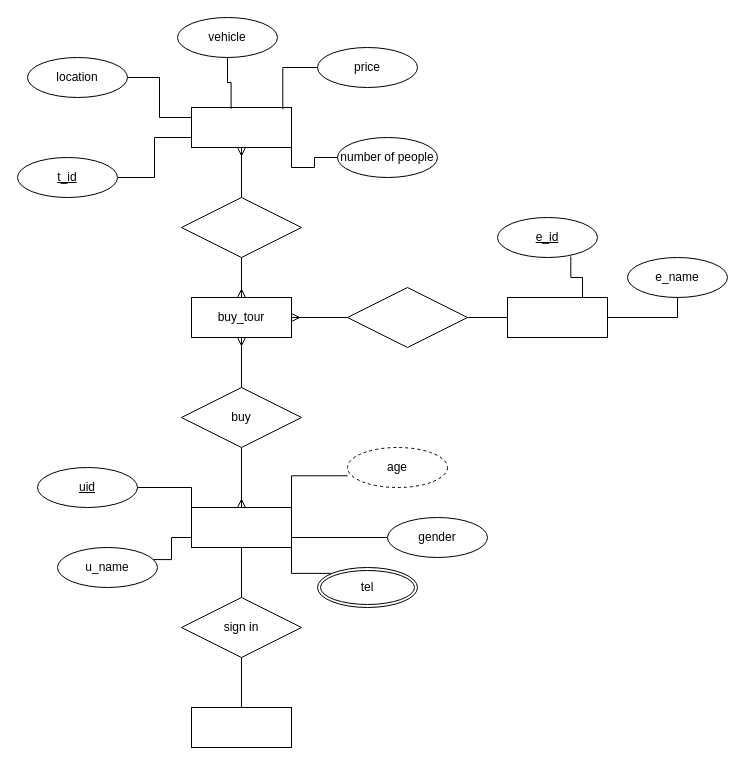
Some shapes in this 745 by 765 pixel diagram are drawn without their labels. The centre of each missing label's shape, as x and y in pixels:
"customer" goes at [241,727].
"employer" goes at [557,317].
"info" goes at [241,227].
"manage by" goes at [407,317].
"tour" goes at [241,127].
"user_account" goes at [241,527].
